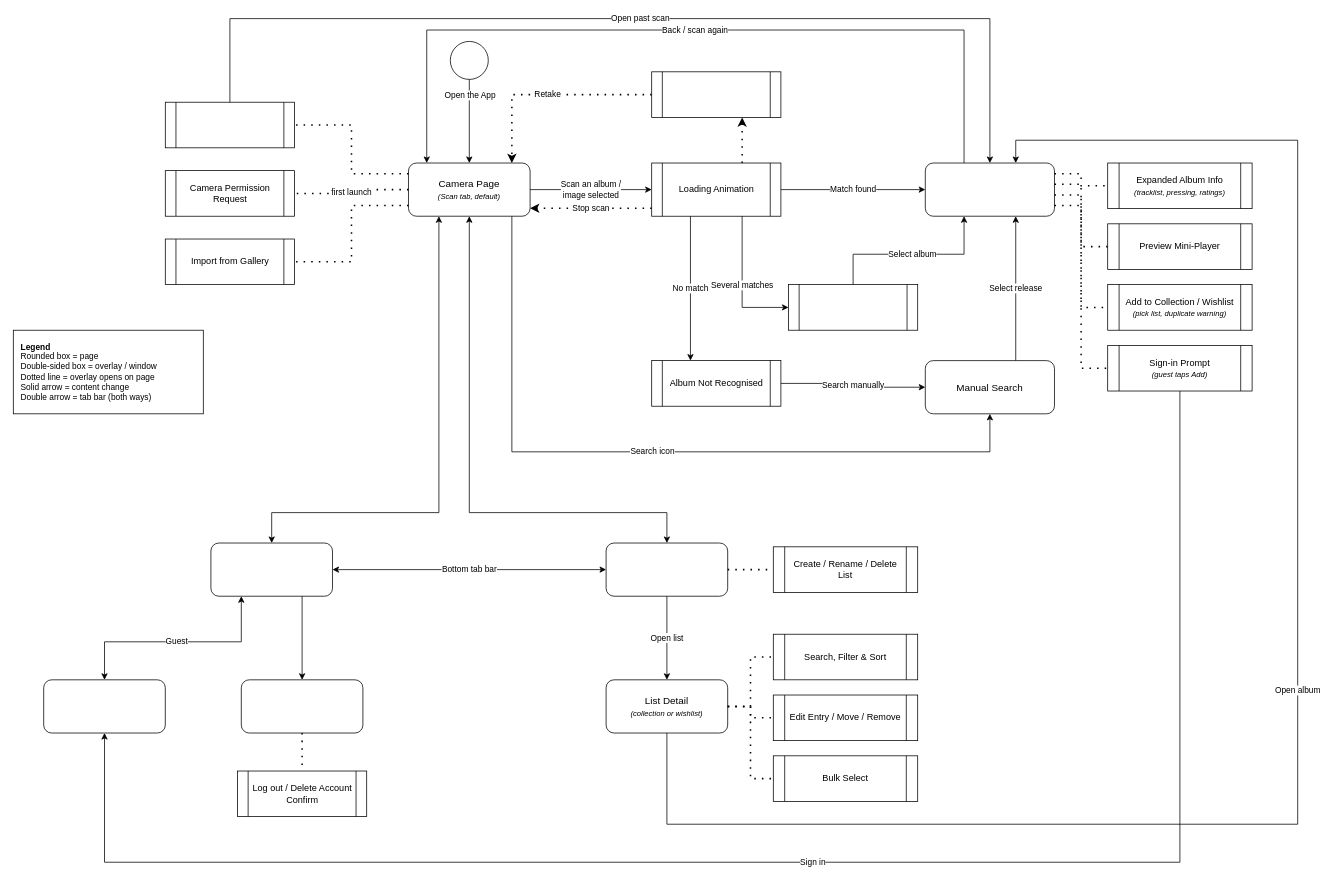
This 1334x882 diagram has some shape labels left out. Here are the shapes that lost their labels. From the top down, the centre of each, then its label:
point 716,94: Retake Prompt (blurry / too dark)
point 229,124: View Scan History
point 989,189: Scanned Album Result page
point 853,307: Candidate Selection (several matches)
point 271,569: User Profile
point 666,569: Library (guest: sign-in prompt)
point 104,706: Login / Register
point 302,706: Settings
